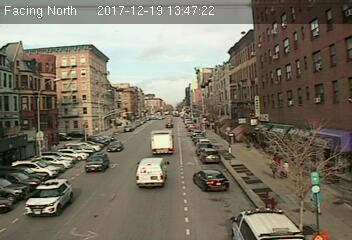car: (192, 169, 231, 191), (86, 153, 109, 172), (198, 148, 221, 163), (106, 140, 123, 151)
police: (229, 206, 303, 240), (23, 177, 73, 220)
truck: (135, 158, 167, 189), (150, 129, 174, 155)
